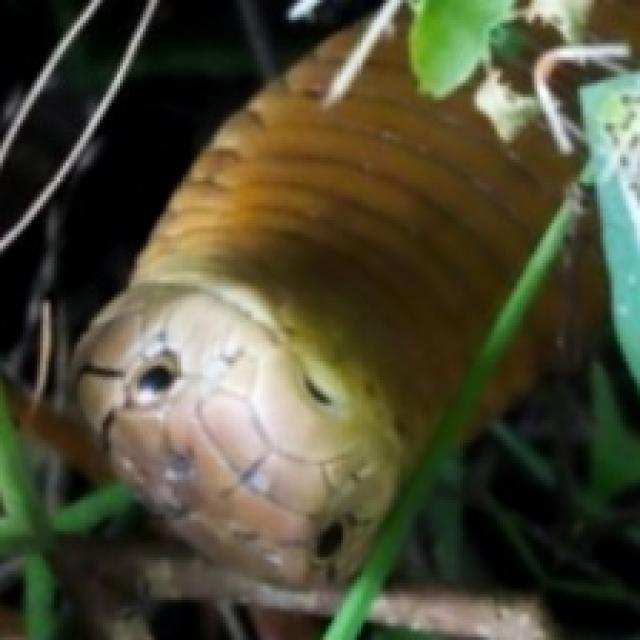king cobra: (0, 0, 637, 491), (377, 189, 637, 637), (57, 514, 326, 637), (0, 0, 143, 231), (0, 0, 83, 131)
